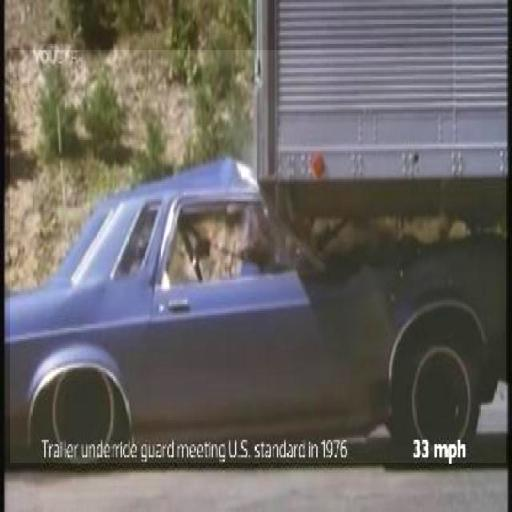小汽车撞小汽车: (10, 50, 506, 463)
